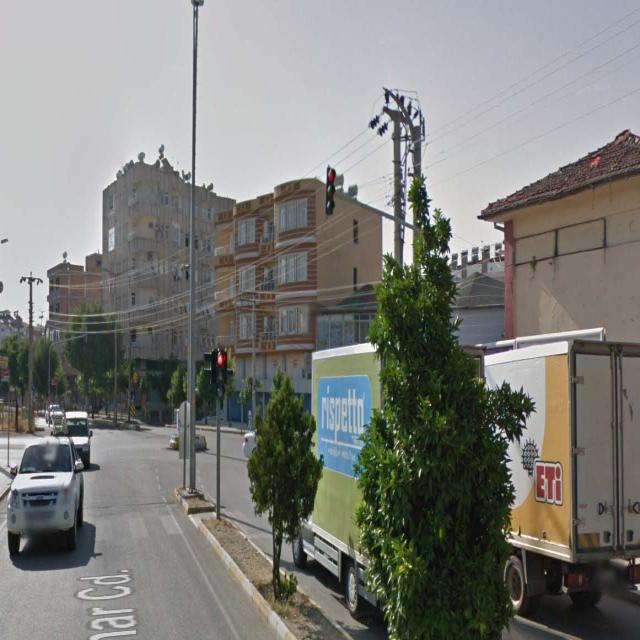kirmizi: (215, 347, 224, 401), (326, 167, 334, 216)
